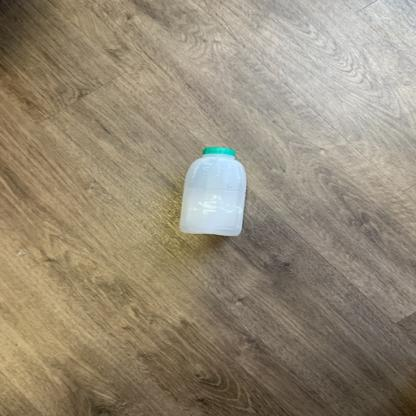trash: (176, 146, 246, 238)
